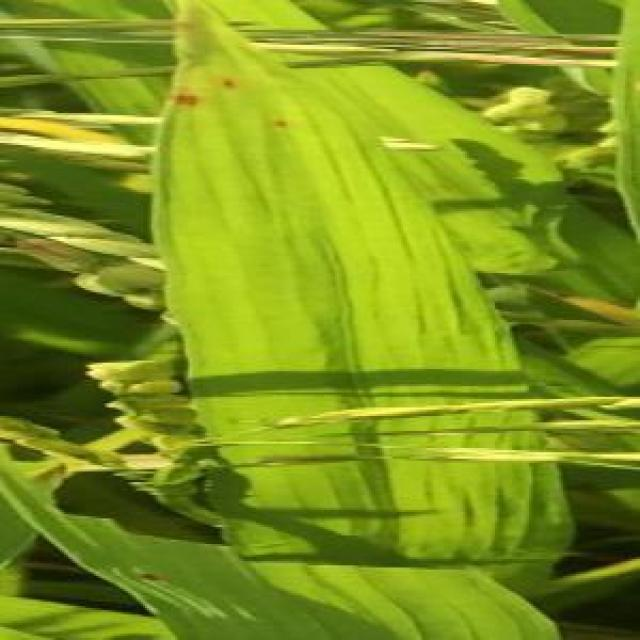brownspots: (175, 87, 205, 111), (271, 111, 290, 132), (218, 75, 235, 92)
